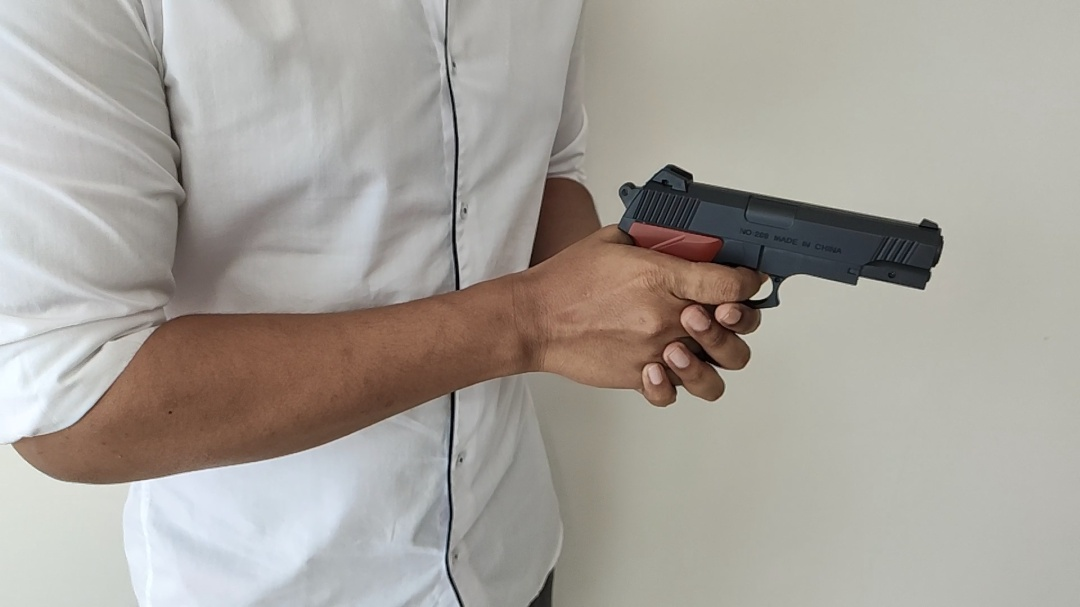gun: (618, 164, 944, 308)
